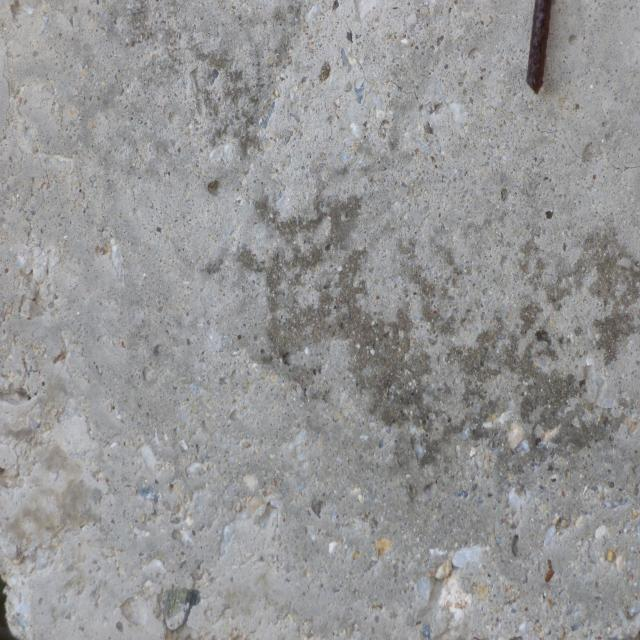corrosion: (500, 0, 576, 115)
